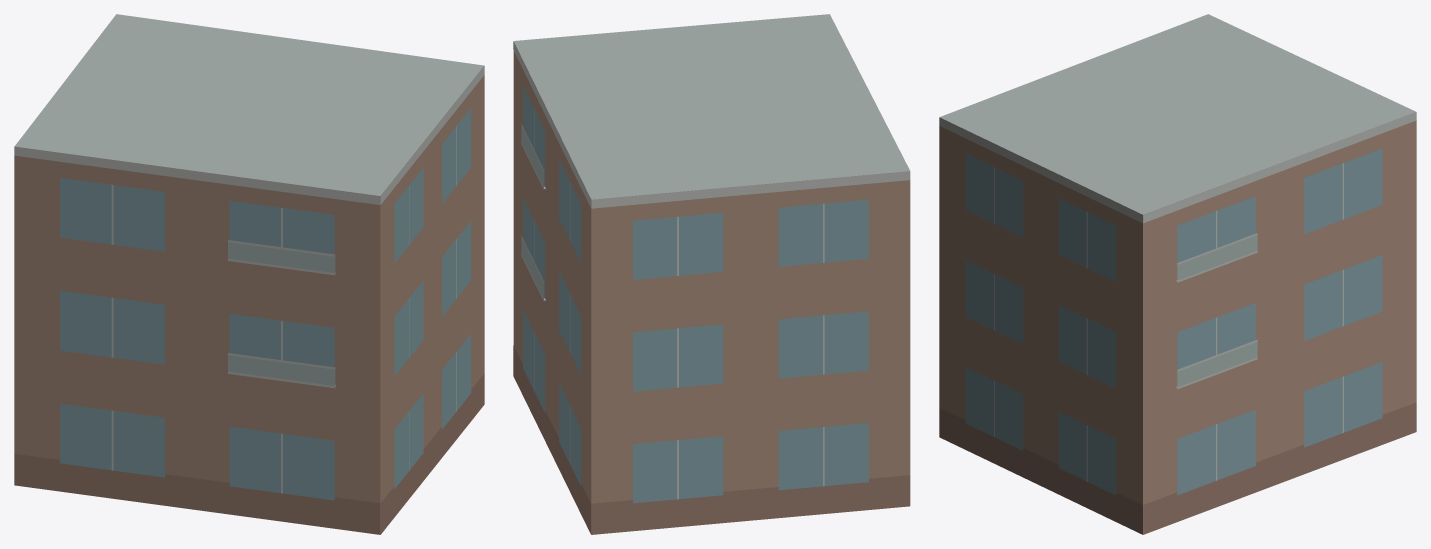
File: survey-upis-32717507.glb
The picture shows the model from 3 angles, left to right: view 1: azimuth 30°, elevation 25°; view 2: azimuth 150°, elevation 25°; view 3: azimuth 270°, elevation 25°; orthographic projection. The views are drawn at different scales.
Parts seen in each view (by area): view 1: survey-upis-32717507.tmp; view 2: survey-upis-32717507.tmp; view 3: survey-upis-32717507.tmp.
Boxes of the visible parts, bbox=[...] form: survey-upis-32717507.tmp: bbox=[14, 14, 484, 534]; survey-upis-32717507.tmp: bbox=[513, 14, 910, 534]; survey-upis-32717507.tmp: bbox=[939, 14, 1416, 534].
Size of the model in its own units: 12.32 by 9.15 by 12.38.
